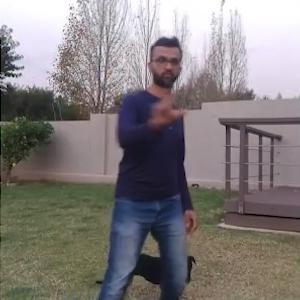land_hand: (146, 81, 185, 128)
